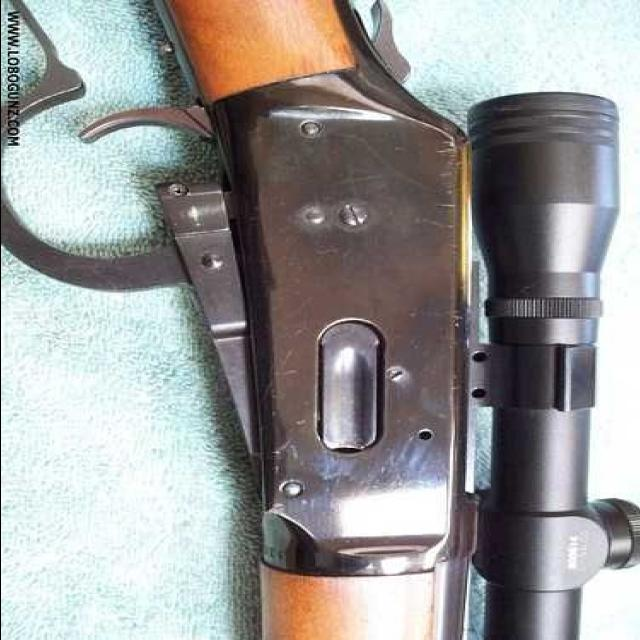heavyweapon: (68, 1, 640, 614)
